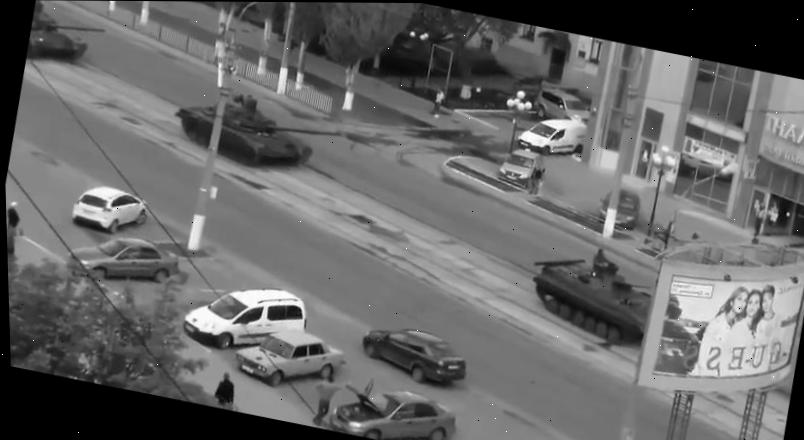car: (177, 271, 313, 366), (229, 319, 351, 401), (63, 224, 185, 295), (327, 376, 461, 440), (355, 319, 472, 390), (68, 180, 150, 239), (514, 108, 589, 164), (529, 85, 592, 129), (595, 180, 645, 230), (496, 146, 543, 189)
person: (306, 372, 351, 431), (211, 370, 239, 408), (744, 201, 767, 242), (6, 199, 26, 238), (431, 88, 447, 119)
tank: (166, 79, 347, 184), (516, 242, 657, 351), (24, 0, 110, 73)
